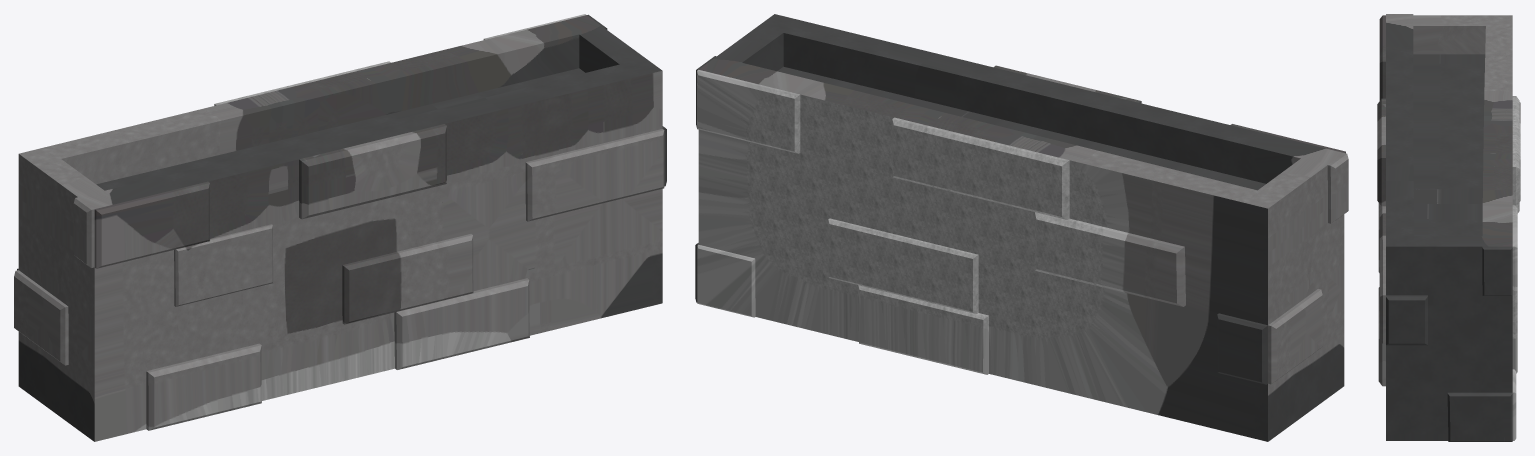
File: Planter Original.fbx
3 renders of one model, left to right at view 1: azimuth 30°, elevation 25°; view 2: azimuth 150°, elevation 25°; view 3: azimuth 270°, elevation 25°, orthographic. The views are drawn at different scales.
Visible parts, largest first — view 1: Planter_Box1; view 2: Planter_Box1; view 3: Planter_Box1.
Boxes of the visible parts, box(x1,y1,x2,y2) form: Planter_Box1: box(14, 14, 666, 441); Planter_Box1: box(695, 14, 1348, 441); Planter_Box1: box(1377, 14, 1520, 441).
Size of the model in its own units: 13.52 by 5.18 by 3.46.
